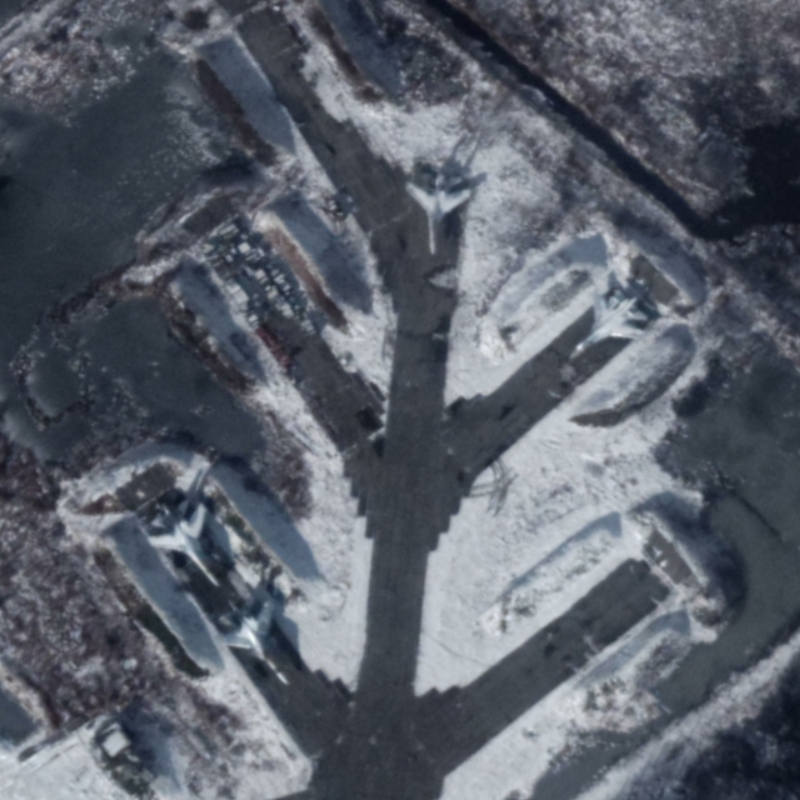A1: (142, 500, 224, 594), (566, 285, 651, 367), (401, 167, 476, 256)
